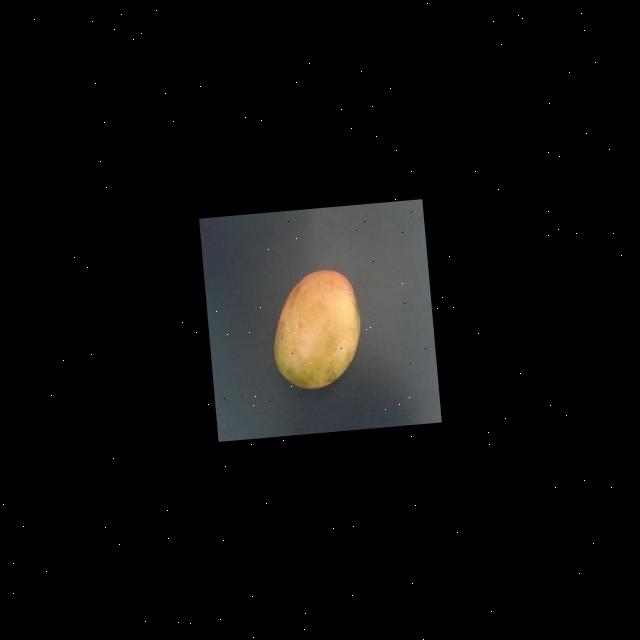Mango: (266, 266, 365, 392)
